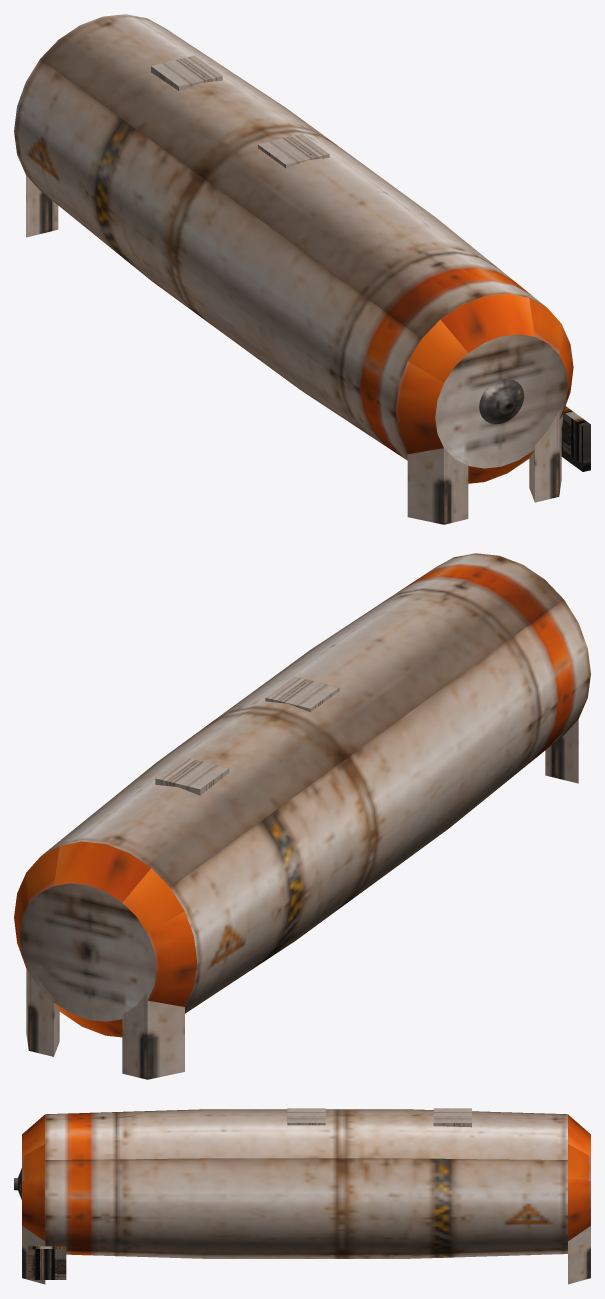
File: train_car_prop_01.dae
The picture shows the model from 3 angles, top to bottom: view 1: azimuth 30°, elevation 25°; view 2: azimuth 150°, elevation 25°; view 3: azimuth 270°, elevation 25°; orthographic projection. The views are drawn at different scales.
Visible parts, largest first — view 1: train_car_prop_01; view 2: train_car_prop_01; view 3: train_car_prop_01.
Boxes of the visible parts, left/top/right/bottom form: train_car_prop_01: left=14, top=14, right=590, bottom=524; train_car_prop_01: left=14, top=553, right=590, bottom=1079; train_car_prop_01: left=14, top=1108, right=590, bottom=1284.
Size of the model in its own units: 7.18 by 27.61 by 7.56.
